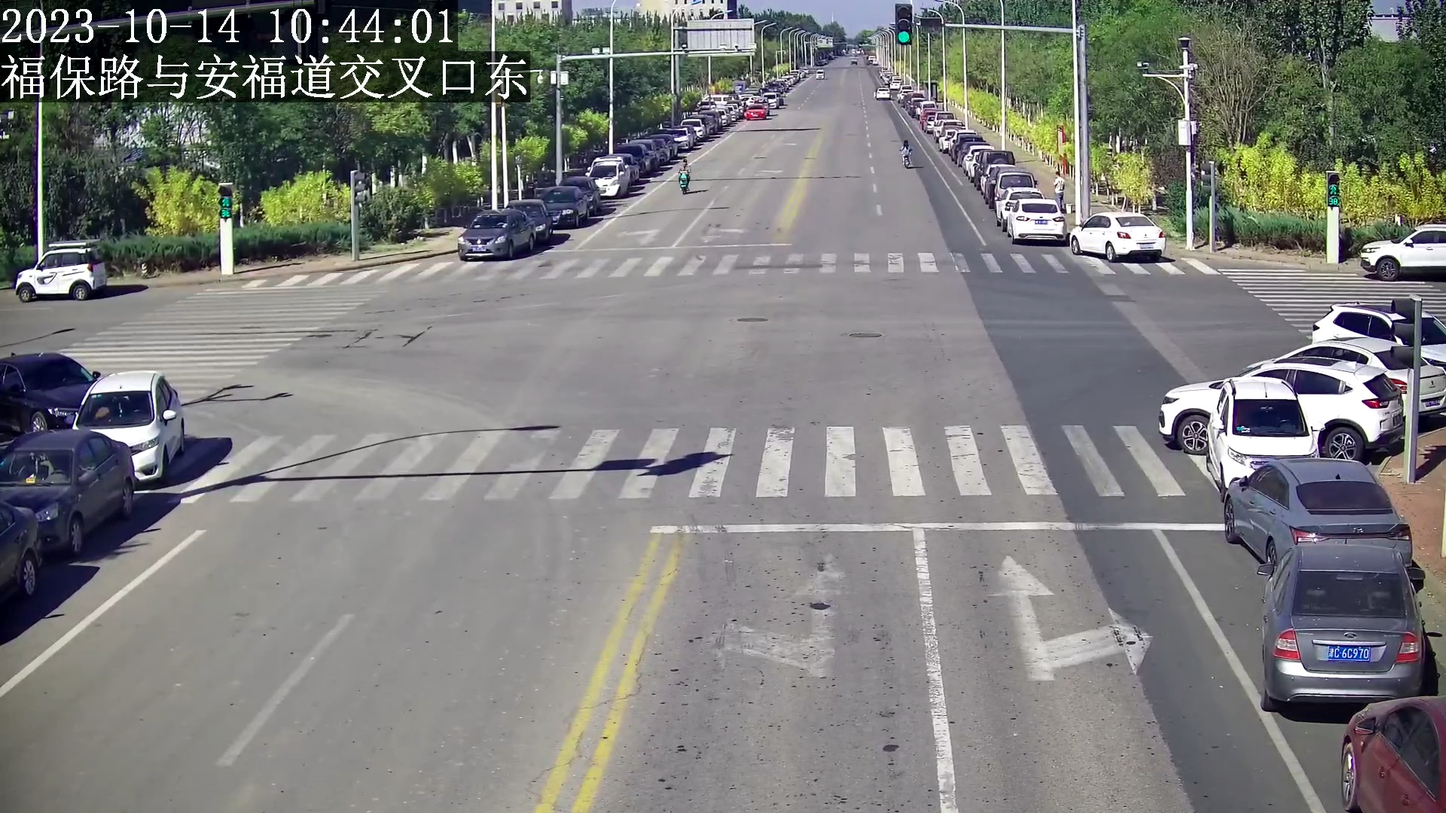person: (1051, 172, 1066, 210)
vehicle: (1256, 544, 1429, 702), (1153, 355, 1406, 459), (1223, 457, 1418, 565), (3, 432, 139, 547), (1334, 696, 1446, 813), (71, 370, 186, 483), (1210, 376, 1317, 477), (1, 352, 102, 430), (13, 239, 110, 301), (1358, 218, 1446, 279), (1068, 210, 1165, 260), (456, 207, 535, 258), (1005, 199, 1066, 246)
